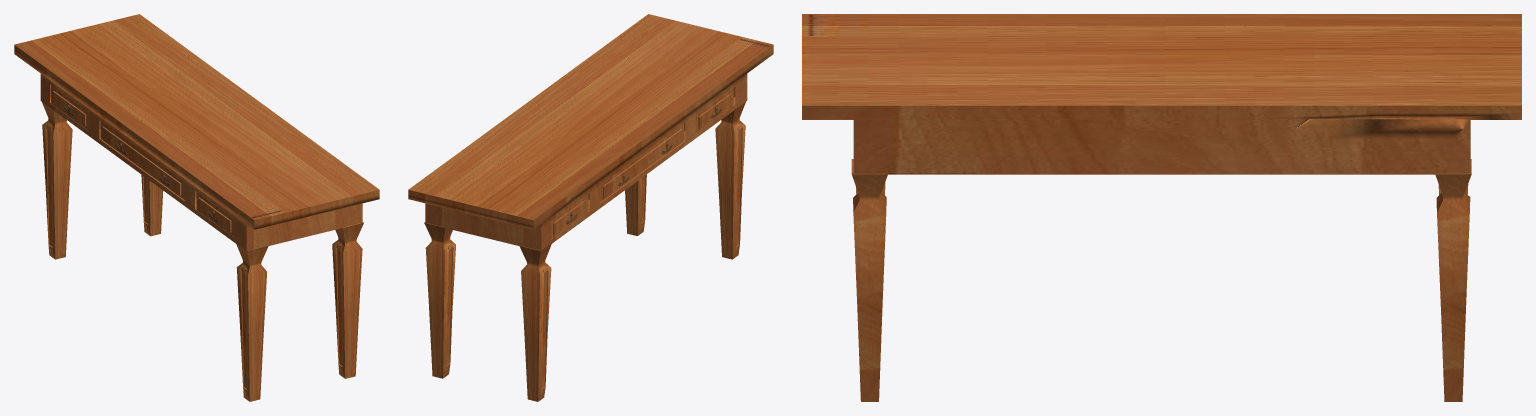
Rendered from escrikevin.FBX.
3 views of the same model, side by side, from view 1: azimuth 30°, elevation 25°; view 2: azimuth 150°, elevation 25°; view 3: azimuth 270°, elevation 25° (orthographic). The views are drawn at different scales.
Visible parts, largest first — view 1: Box012, Box010, Box005, Box011, Box015, Box009, Box013, Box016; view 2: Box012, Box011, Box009, Box010, Box015, Box005, Box013, Box016; view 3: Box012, Box005, Box009.
Part boxes in pixels (x1,y1,x2,y2): Box012: [14, 14, 379, 251]; Box010: [236, 244, 268, 401]; Box005: [332, 222, 363, 378]; Box011: [42, 97, 72, 259]; Box015: [100, 122, 196, 199]; Box009: [141, 174, 163, 236]; Box013: [196, 192, 234, 237]; Box016: [51, 85, 100, 130]; Box012: [408, 14, 773, 251]; Box011: [519, 244, 551, 401]; Box009: [424, 222, 455, 378]; Box010: [715, 97, 745, 259]; Box015: [588, 124, 684, 202]; Box005: [625, 174, 646, 235]; Box013: [684, 88, 733, 132]; Box016: [550, 194, 588, 239]; Box012: [802, 14, 1521, 174]; Box005: [851, 159, 887, 401]; Box009: [1435, 159, 1471, 401].
Bounding box in the file's own units: 120 × 181 × 394.
